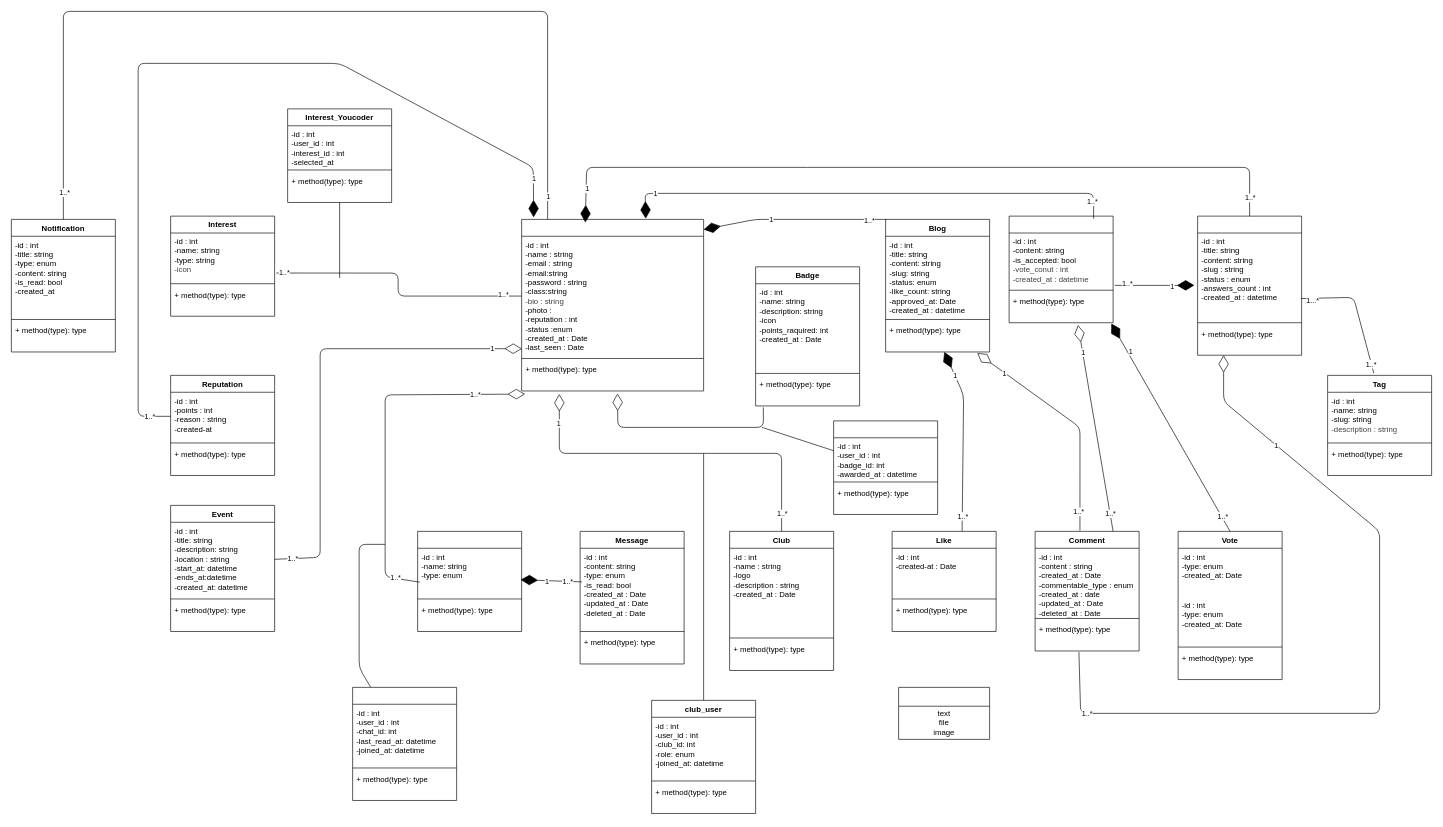
The diagram is 1443 pixels wide and 827 high, and some of its shapes have lost their labels. Each missing label, with the box of its shape:
answer: (1008, 215, 1113, 323)
badge_user: (833, 420, 938, 514)
Chat: (417, 531, 522, 631)
chat_user: (352, 687, 457, 800)
enum <type>: (898, 687, 990, 739)
question: (1197, 215, 1302, 355)
YouCoder: (521, 219, 704, 391)
